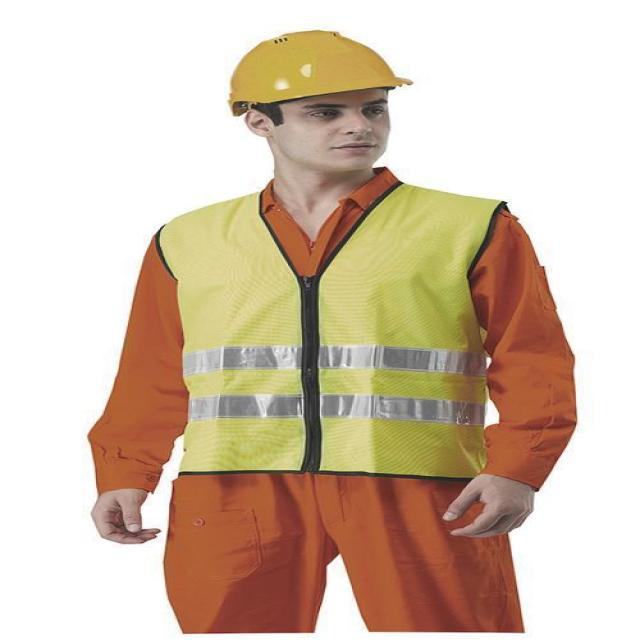Vest: (154, 187, 506, 482)
